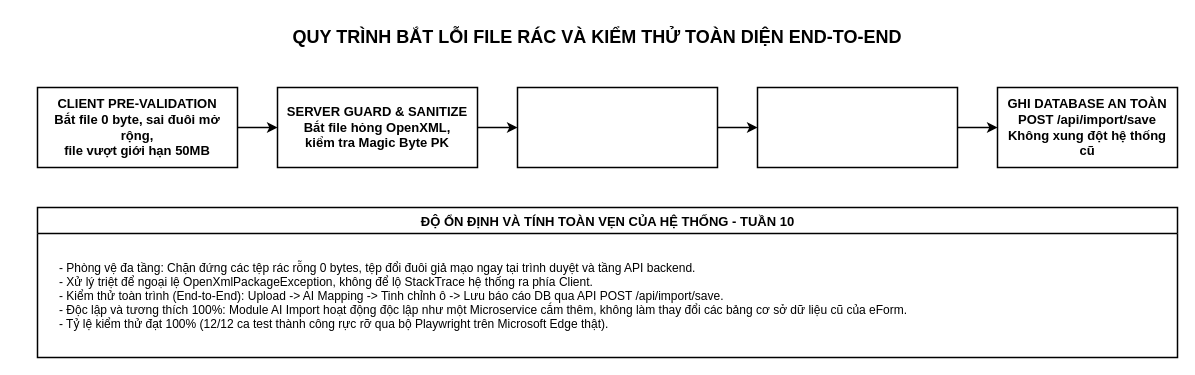
The diagram is 1195 pixels wide and 375 high, and some of its shapes have lost their labels. The shapes that lost their labels are listed below. From the top down, each one's centre as x and y in pixels, then its label:
pixel 617 127: AI EXTRACTION & CACHE Trích xuất cấu trúc bảng và tự động điền cache
pixel 857 127: XÁC NHẬN LƯU BÁO CÁO Modal hiển thị số bản ghi, tên biểu, thời gian thực hiện
